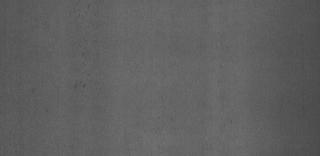silk spot: (73, 39, 105, 103)
